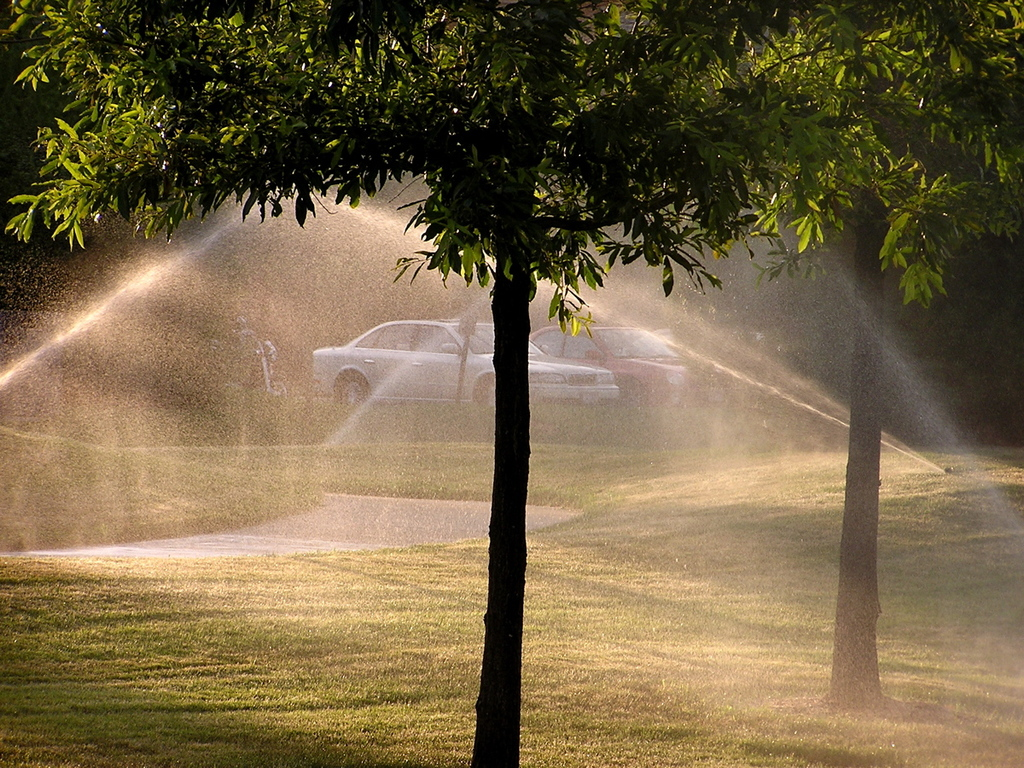Car: (313, 314, 620, 419), (534, 312, 706, 407)
